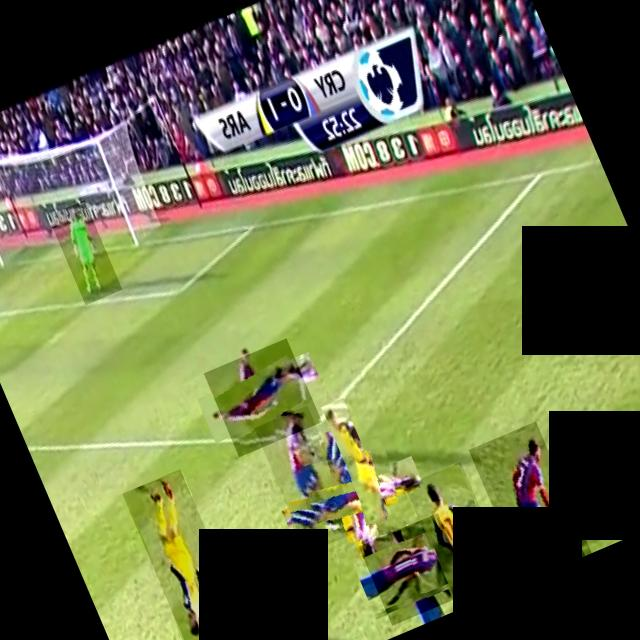goalkeeper: (46, 199, 121, 304)
soccer-player: (120, 468, 245, 640), (467, 420, 590, 582), (403, 461, 512, 610), (252, 404, 359, 552), (291, 436, 412, 557), (202, 337, 320, 456), (357, 512, 470, 624), (319, 397, 390, 522)
